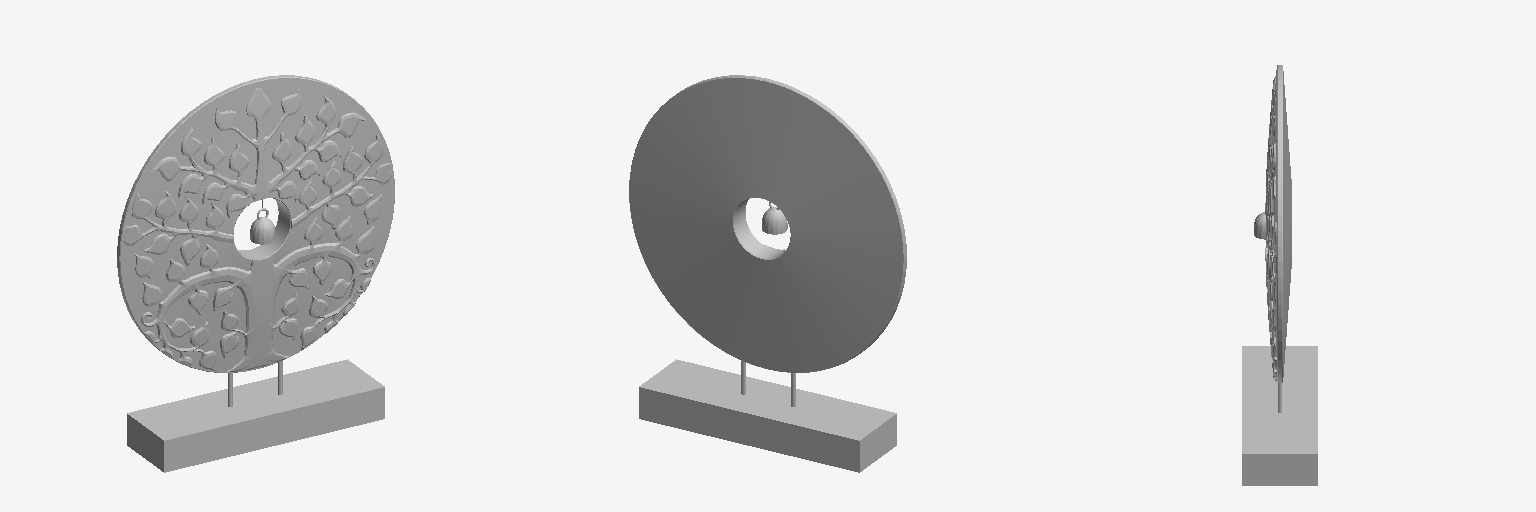
The model's file is Golden tree disc.obj.
3 renders of one model, left to right at view 1: azimuth 30°, elevation 25°; view 2: azimuth 150°, elevation 25°; view 3: azimuth 270°, elevation 25°, orthographic.
Parts seen in each view (by area): view 1: Cylinder02_网格.001, Box01_网格.001, Cylinder01_1_网格.001, Group01_1_网格.001; view 2: Cylinder02_网格.001, Cylinder01_1_网格.001, Group01_1_网格.001; view 3: Cylinder01_1_网格.001, Cylinder02_网格.001, Box01_网格.001.
Boxes of the visible parts, x1,y1,x2,y2 form: Cylinder02_网格.001: [117, 75, 394, 372]; Box01_网格.001: [123, 88, 392, 371]; Cylinder01_1_网格.001: [127, 359, 384, 472]; Group01_1_网格.001: [250, 199, 275, 244]; Cylinder02_网格.001: [629, 75, 906, 372]; Cylinder01_1_网格.001: [639, 359, 896, 472]; Group01_1_网格.001: [762, 202, 787, 234]; Cylinder01_1_网格.001: [1242, 346, 1317, 485]; Cylinder02_网格.001: [1272, 65, 1291, 382]; Box01_网格.001: [1265, 76, 1277, 381].
Bounding box in the file's own units: 7.64 × 9.33 × 1.81.